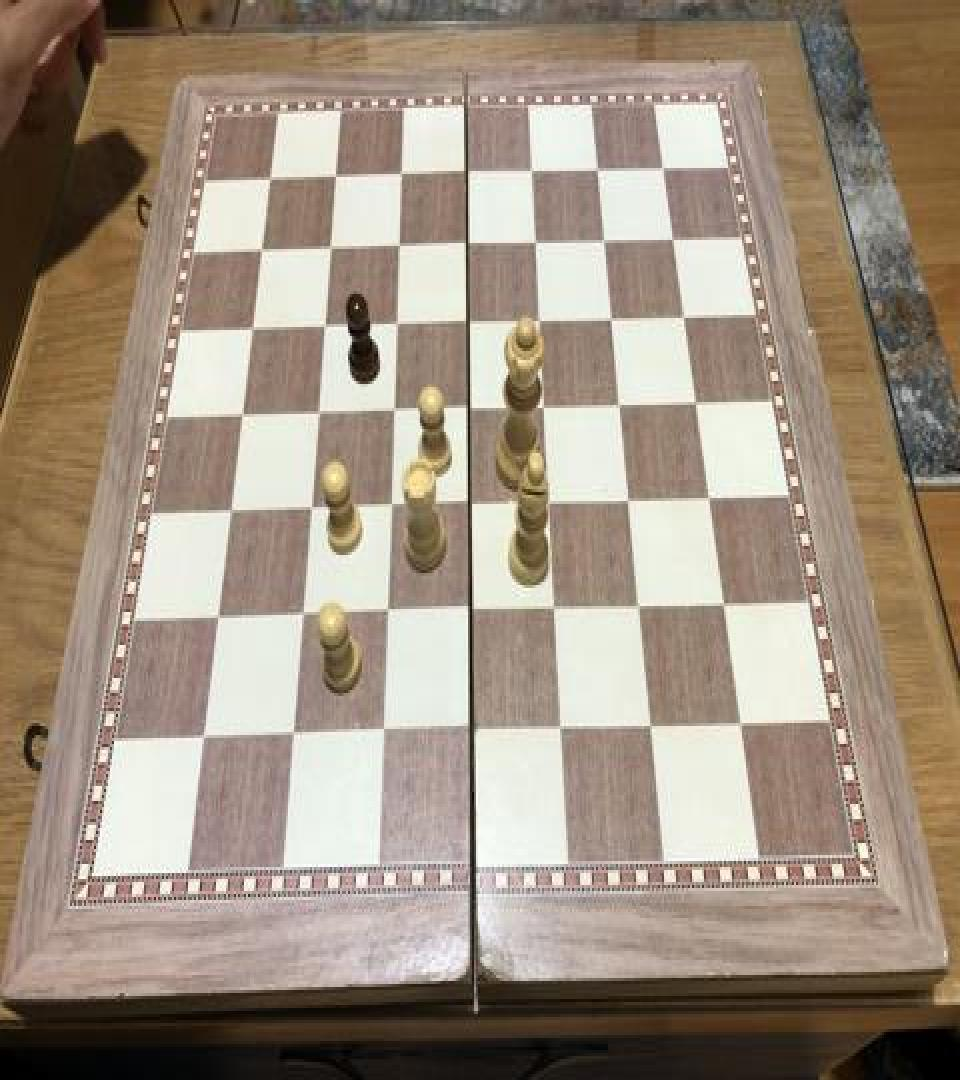xcorner: (547, 712, 571, 749), (368, 718, 392, 755), (654, 152, 678, 188), (588, 154, 612, 190), (522, 156, 546, 192), (456, 159, 480, 195), (391, 162, 415, 198), (325, 165, 349, 201), (259, 168, 283, 204), (664, 222, 688, 258), (594, 225, 618, 261), (525, 228, 549, 264), (456, 231, 480, 267), (388, 234, 412, 270), (319, 237, 343, 273), (250, 238, 274, 274), (674, 300, 698, 336), (601, 303, 625, 339), (529, 306, 553, 342), (457, 309, 481, 345), (384, 312, 408, 348), (312, 315, 336, 351), (241, 318, 265, 354), (685, 387, 709, 423), (609, 390, 633, 426), (533, 393, 557, 429), (457, 394, 481, 430), (381, 398, 405, 434), (305, 400, 329, 436), (230, 404, 254, 440), (697, 482, 721, 518), (617, 484, 641, 520), (537, 488, 561, 524), (457, 490, 481, 526), (377, 494, 401, 530), (297, 496, 321, 532), (218, 500, 242, 536), (711, 588, 735, 624), (626, 591, 650, 627), (541, 594, 565, 630), (457, 597, 481, 633), (373, 600, 397, 636), (288, 603, 312, 639), (205, 606, 229, 642), (727, 706, 751, 742), (636, 710, 660, 746), (457, 716, 481, 752), (278, 722, 302, 758), (190, 724, 214, 760)
